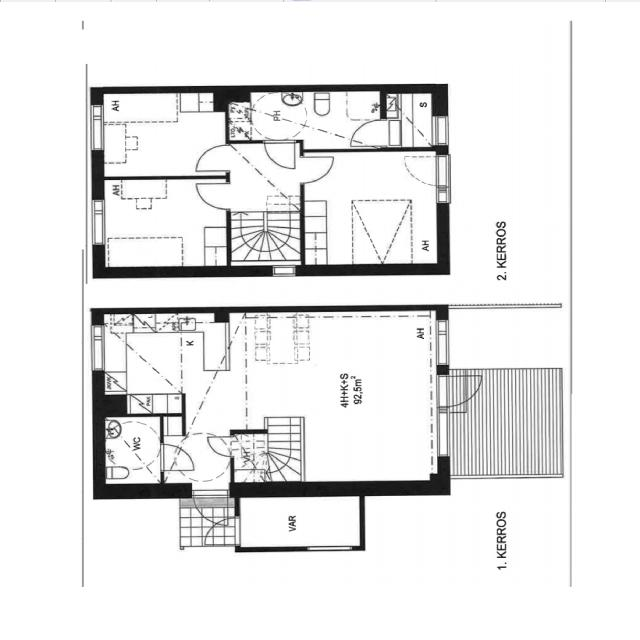door: (194, 484, 228, 528), (436, 376, 483, 406), (204, 518, 240, 545), (195, 183, 229, 210), (351, 120, 386, 146), (301, 157, 335, 183), (264, 140, 294, 169), (196, 145, 229, 171), (161, 445, 193, 471), (208, 437, 235, 457)
